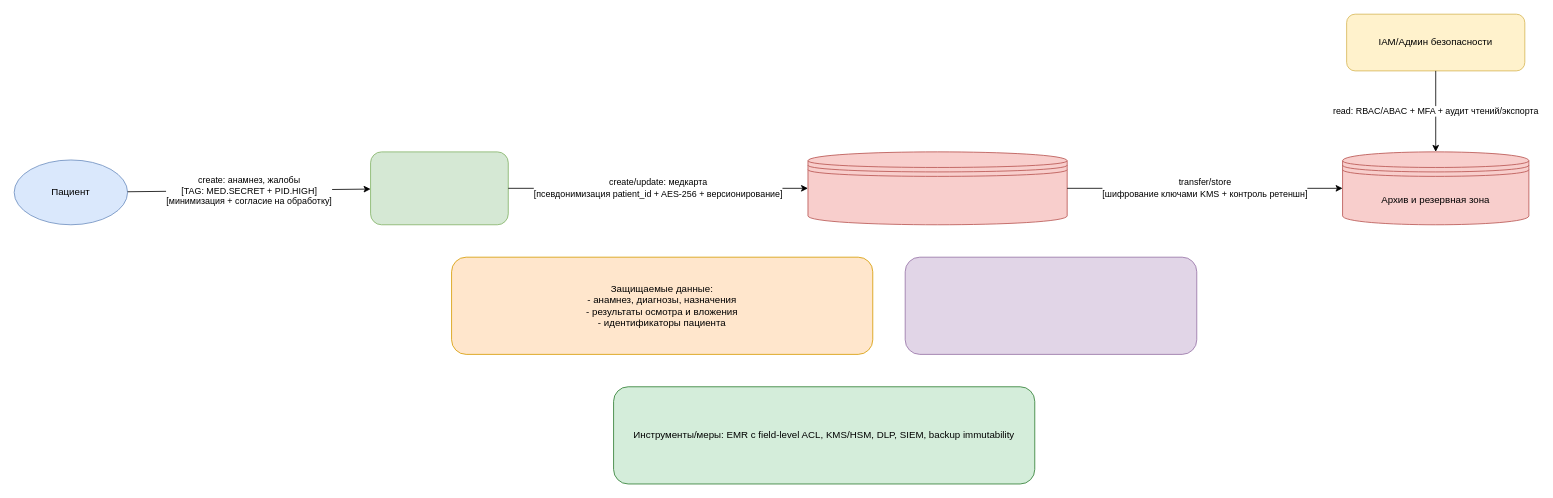
The diagram is 1553 pixels wide and 498 high, and some of its shapes have lost their labels. The shapes that lost their labels are listed below. From the top down, each one's centre as x and y in pixels, then its label:
[439,188]: Медик
[937,188]: EMR/медкарта (защищенное хранилище)
[1050,305]: Тегирование: MED.SECRET, PID.HIGH, RETENTION.STRICT owner=MedicalOfficer
